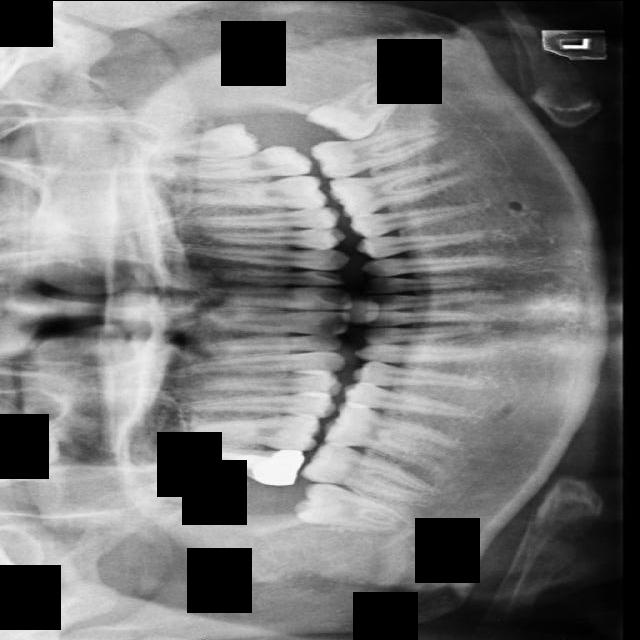3M ESPE Implant: (142, 462, 248, 503)
52: (249, 448, 307, 487)
73: (156, 440, 280, 474), (574, 40, 590, 48)
BioHorizons Implant: (182, 141, 312, 183)
BioLife Implant: (157, 120, 259, 159)
Biomet 3i Implant: (301, 71, 413, 156)
Blue Sky Bio Implant: (311, 123, 444, 181)
Caries: (157, 439, 304, 486)
Implant: (301, 431, 435, 518)
Keystone Dental Implant: (290, 479, 411, 534)
